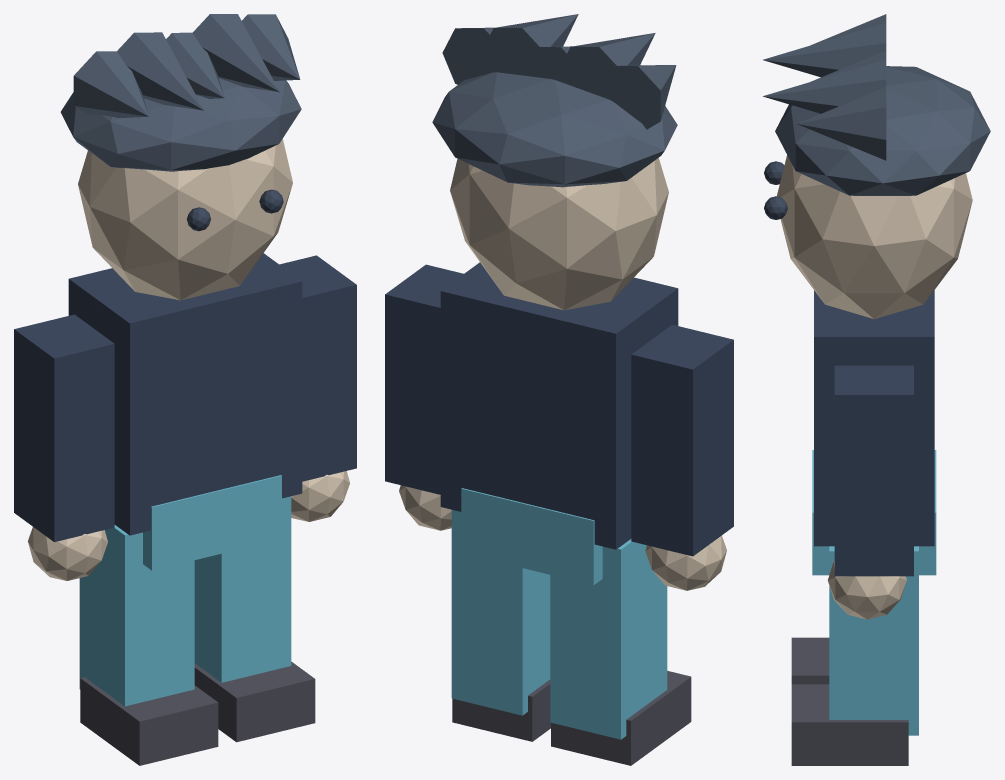
The model's file is gray.glb.
3 renders of one model, left to right at view 1: azimuth 30°, elevation 25°; view 2: azimuth 150°, elevation 25°; view 3: azimuth 270°, elevation 25°, orthographic. The views are drawn at different scales.
Parts seen in each view (by area): view 1: part_000, part_010, part_002, part_004, part_013, part_008, part_006, part_001, part_005, part_009, part_014, part_015 (+5 smaller); view 2: part_000, part_010, part_002, part_013, part_004, part_008, part_006, part_001, part_005, part_015, part_014, part_017 (+5 smaller); view 3: part_010, part_006, part_013, part_000, part_008, part_009, part_018, part_015, part_017, part_007, part_005, part_001 (+1 smaller).
Part boxes in pixels (x1,y1,x2,y2): part_000: (68, 253, 302, 535); part_010: (78, 139, 292, 300); part_002: (14, 314, 114, 542); part_004: (79, 525, 194, 706); part_013: (60, 78, 301, 171); part_008: (194, 496, 291, 682); part_006: (279, 255, 356, 481); part_001: (143, 475, 281, 570); part_005: (80, 677, 218, 765); part_009: (194, 661, 315, 742); part_014: (73, 51, 148, 117); part_015: (117, 32, 203, 110); part_000: (440, 262, 678, 549); part_010: (450, 158, 668, 310); part_002: (631, 324, 733, 556); part_013: (432, 72, 677, 187); part_004: (550, 539, 667, 739); part_008: (451, 510, 550, 715); part_006: (385, 264, 463, 494); part_001: (461, 488, 602, 585); part_005: (551, 671, 691, 765); part_015: (558, 33, 655, 103); part_014: (596, 65, 676, 129); part_017: (481, 14, 578, 77); part_010: (777, 155, 972, 319); part_006: (834, 365, 913, 576); part_013: (775, 66, 990, 195); part_000: (814, 290, 934, 546); part_008: (829, 546, 918, 735); part_009: (791, 684, 908, 765); part_018: (797, 87, 886, 160); part_015: (763, 23, 886, 77); part_017: (763, 59, 886, 113); part_007: (827, 561, 906, 619); part_005: (791, 637, 829, 684); part_001: (812, 450, 936, 575).
Size of the model in its own units: 1.03 by 2.17 by 0.6628.
